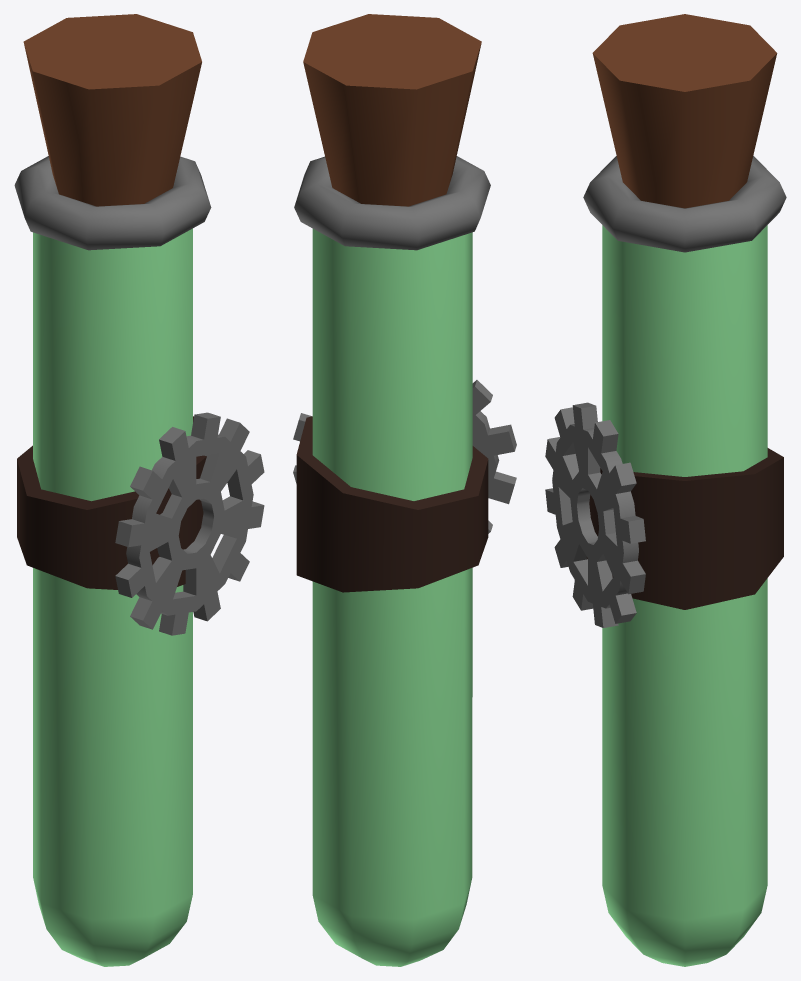
The model's file is Modé_Potions_1.FBX.
The picture shows the model from 3 angles, left to right: view 1: azimuth 30°, elevation 25°; view 2: azimuth 150°, elevation 25°; view 3: azimuth 270°, elevation 25°; orthographic projection.
Visible parts, largest first — view 1: Potion01; view 2: Potion01; view 3: Potion01.
Boxes of the visible parts, left/top/right/bottom form: Potion01: left=14, top=14, right=264, bottom=966; Potion01: left=293, top=14, right=516, bottom=966; Potion01: left=545, top=14, right=786, bottom=966.
Size of the model in its own units: 7 by 28.57 by 6.9.
